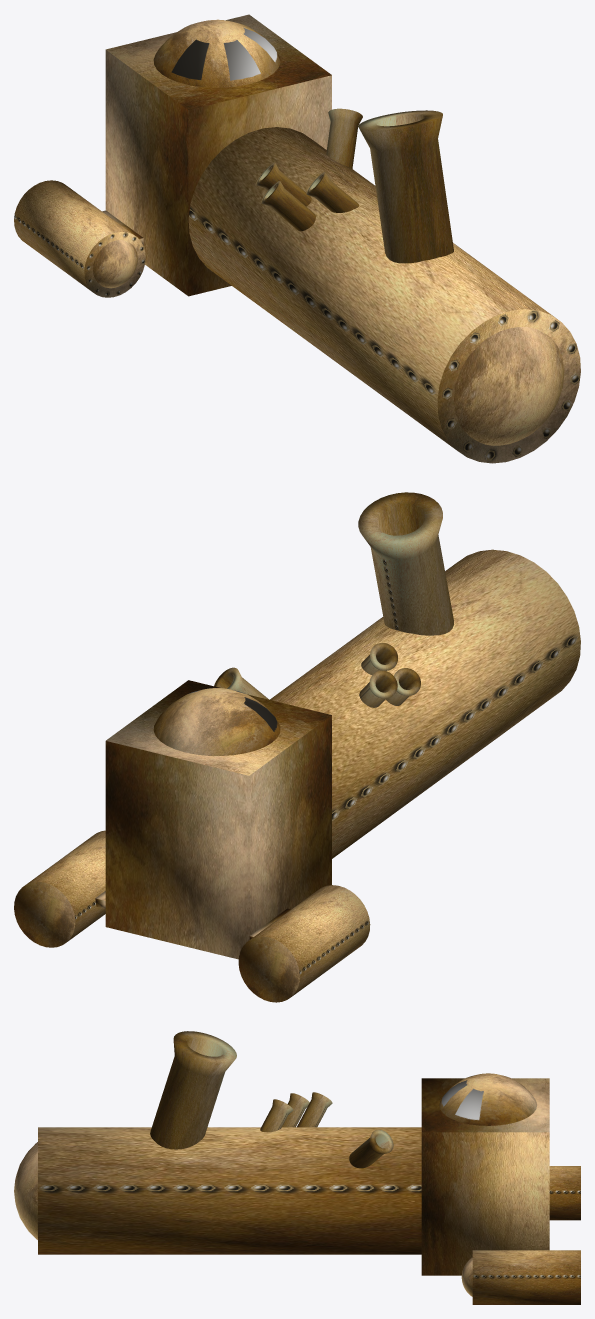
Rendered from ship.fbx.
The picture shows the model from 3 angles, top to bottom: view 1: azimuth 30°, elevation 25°; view 2: azimuth 150°, elevation 25°; view 3: azimuth 270°, elevation 25°; orthographic projection. The views are drawn at different scales.
Parts seen in each view (by area): view 1: Cylinder, Cube, Cylinder_001, Sphere, Cylinder_006, Sphere_003, Sphere_001, Cylinder_005, Cylinder_003, Cylinder_004, Cylinder_002; view 2: Cube, Cylinder, Cylinder_001, Cylinder_006, Cylinder_007, Sphere_003, Cylinder_002, Cylinder_004, Cylinder_003, Cylinder_005; view 3: Cylinder, Cube, Cylinder_001, Cylinder_007, Sphere_003, Cylinder_006, Sphere, Cylinder_005, Cylinder_002, Cylinder_004, Cylinder_003.
Part boxes in pixels (left/top/right/bottom): Cylinder: left=188, top=127, right=580, bottom=463; Cube: left=105, top=14, right=331, bottom=296; Cylinder_001: left=358, top=110, right=453, bottom=263; Sphere: left=454, top=327, right=564, bottom=445; Cylinder_006: left=14, top=180, right=145, bottom=297; Sphere_003: left=153, top=19, right=280, bottom=87; Sphere_001: left=93, top=240, right=137, bottom=288; Cylinder_005: left=326, top=108, right=362, bottom=168; Cylinder_003: left=261, top=181, right=315, bottom=231; Cylinder_004: left=306, top=172, right=359, bottom=212; Cylinder_002: left=256, top=162, right=311, bottom=206; Cube: left=105, top=680, right=331, bottom=959; Cylinder: left=270, top=549, right=580, bottom=858; Cylinder_001: left=358, top=492, right=453, bottom=635; Cylinder_006: left=238, top=885, right=370, bottom=1002; Cylinder_007: left=14, top=830, right=105, bottom=947; Sphere_003: left=153, top=688, right=280, bottom=755; Cylinder_002: left=359, top=670, right=397, bottom=707; Cylinder_004: left=361, top=642, right=397, bottom=674; Cylinder_003: left=386, top=668, right=420, bottom=705; Cylinder_005: left=214, top=667, right=269, bottom=699; Cylinder: left=38, top=1127, right=421, bottom=1254; Cube: left=421, top=1078, right=549, bottom=1275; Cylinder_001: left=150, top=1031, right=236, bottom=1149; Cylinder_007: left=472, top=1250, right=580, bottom=1304; Sphere_003: left=439, top=1073, right=537, bottom=1125; Cylinder_006: left=549, top=1166, right=580, bottom=1220; Sphere: left=14, top=1142, right=37, bottom=1239; Cylinder_005: left=349, top=1129, right=393, bottom=1168; Cylinder_002: left=297, top=1092, right=332, bottom=1127; Cylinder_004: left=260, top=1099, right=293, bottom=1132; Cylinder_003: left=282, top=1093, right=309, bottom=1127.
Bounding box in the file's own units: 3.98 × 3.82 × 8.87.
4 materials, 4 textured.
